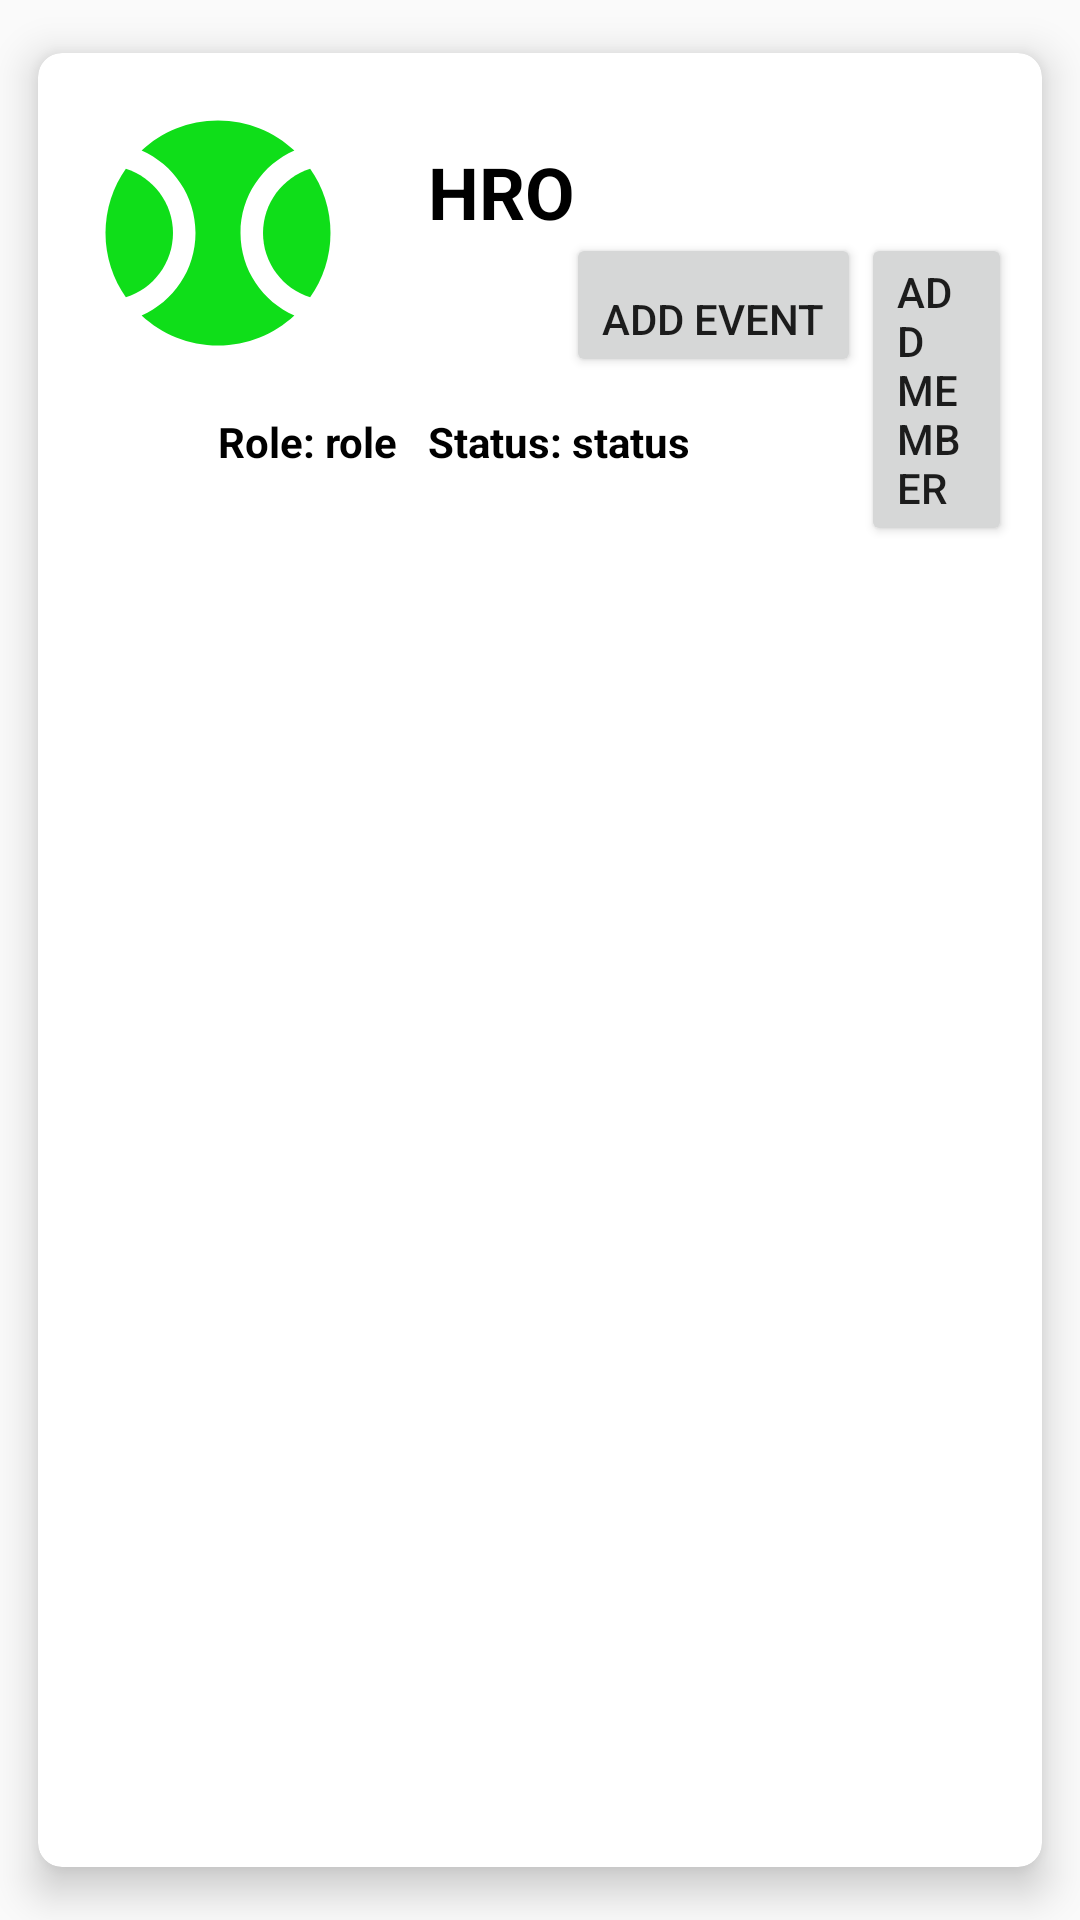

Icon click points for this 1080 x 1920 phone screenshot, format point (x, y):
sports baseball: point (218, 233)
